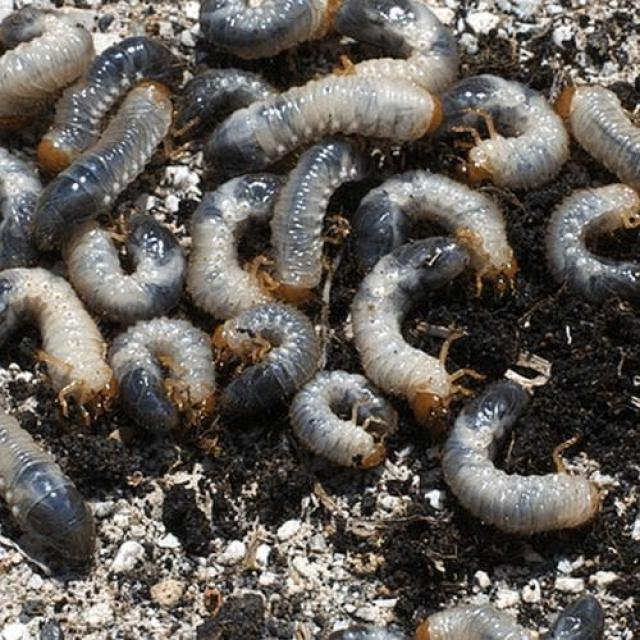grub: (11, 29, 619, 537)
